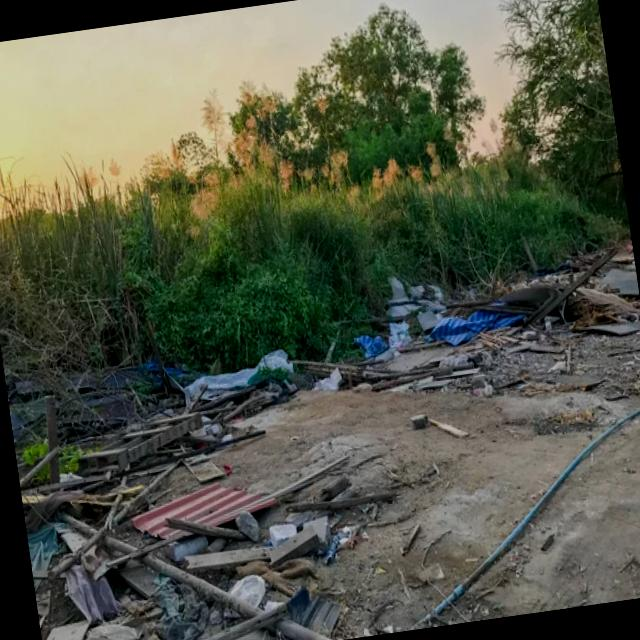garbage: (14, 268, 452, 640)
